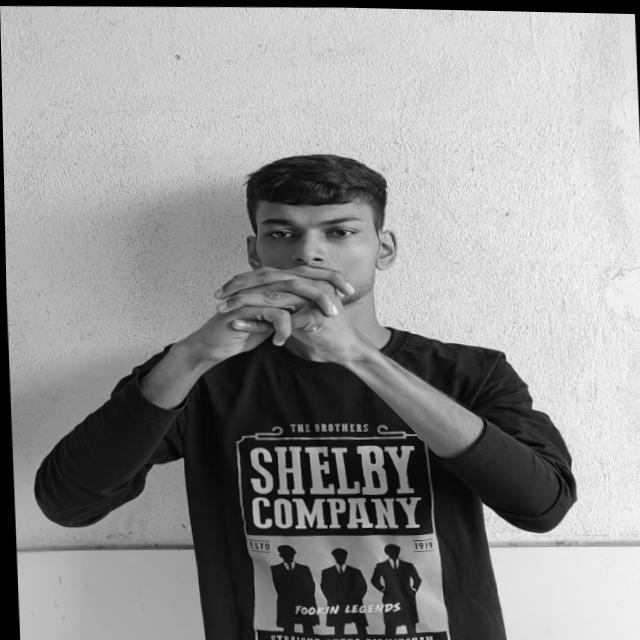Sorry: (204, 259, 359, 358)
